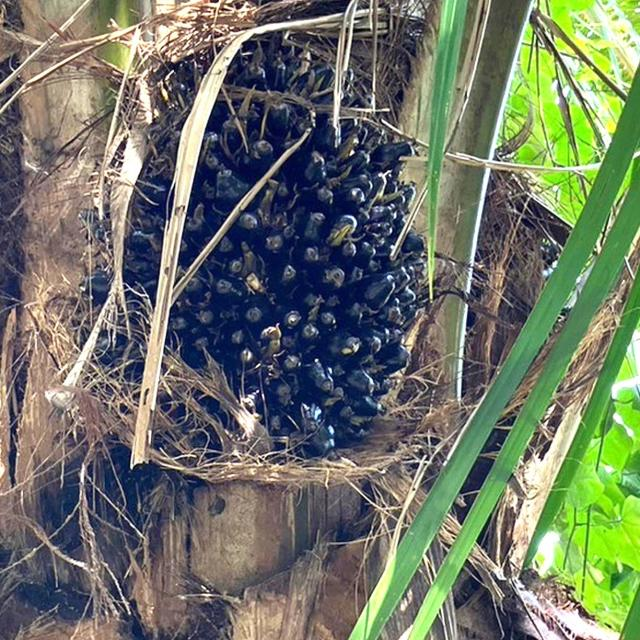unripe: (75, 30, 443, 480)
